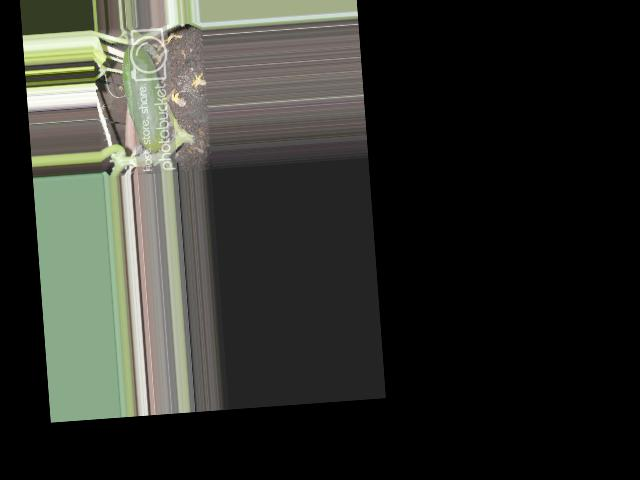cucumber: (121, 44, 168, 152)
